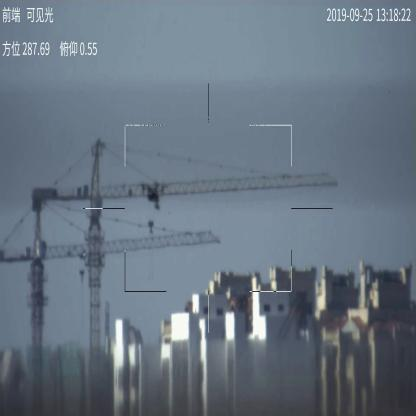uav: (142, 182, 165, 209)
